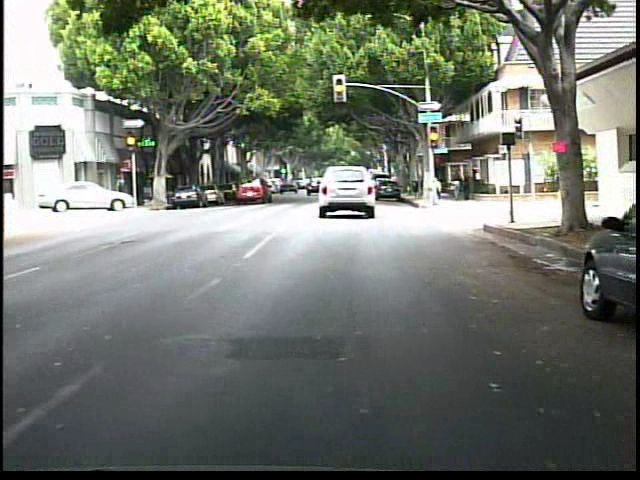person: (423, 171, 444, 210), (448, 168, 463, 202), (458, 167, 471, 204), (470, 162, 481, 196)
